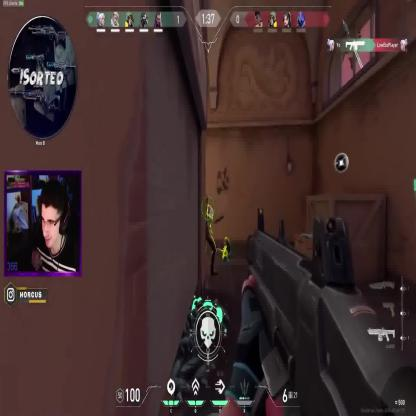enemy: (201, 195, 219, 276)
enemy_head: (203, 195, 209, 209)
